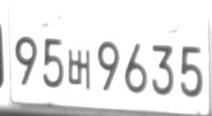3: (151, 44, 173, 95)
5: (180, 46, 202, 96), (42, 37, 63, 87)
6: (123, 43, 147, 93)
9: (14, 35, 37, 84), (97, 40, 119, 90)
버: (67, 49, 89, 89)
